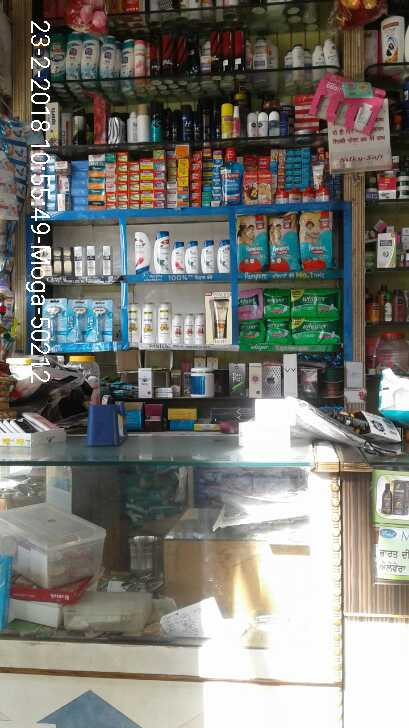venus: (90, 297, 114, 343), (44, 299, 69, 342), (69, 299, 90, 343)
